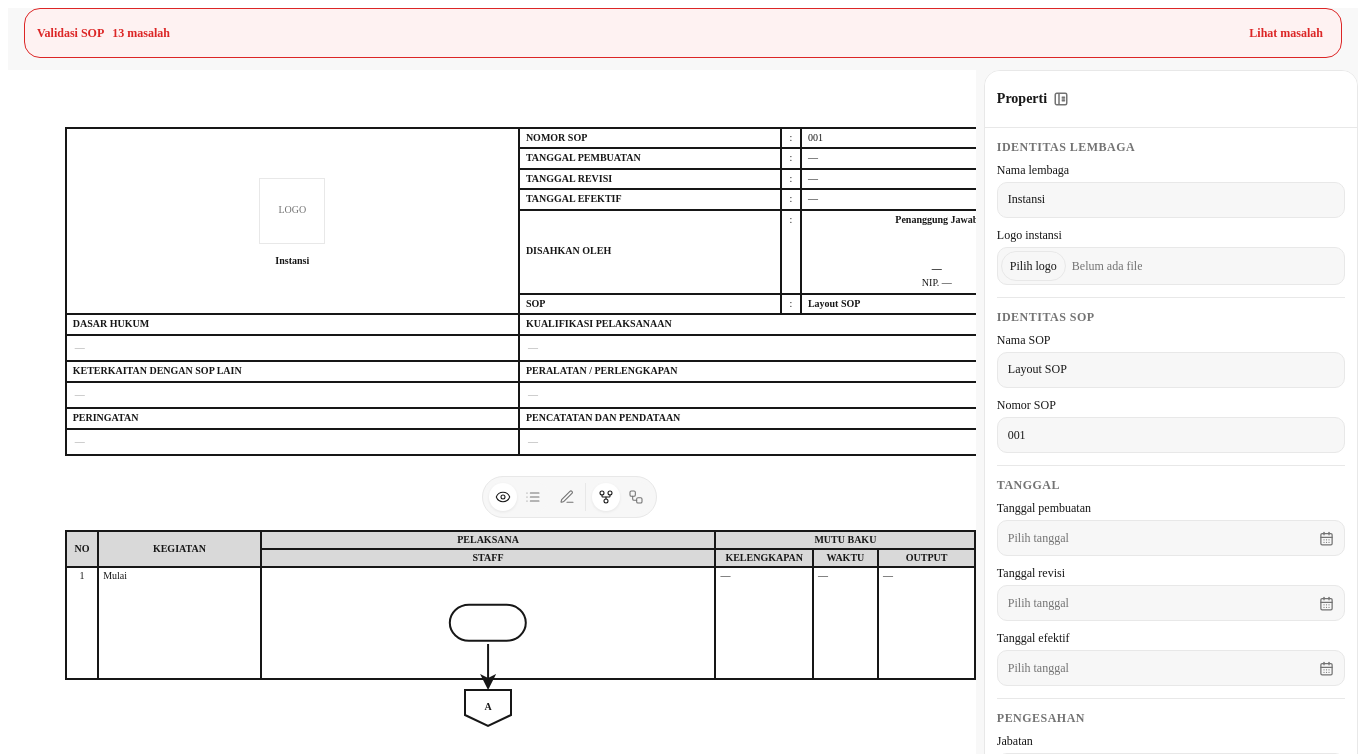
SopEditor default composition › switches to the inline step editor without changing the inspector
This screenshot has width=1366, height=754.
Click the button named "Edit langkah" at (533, 497), box [519,483,547,511]
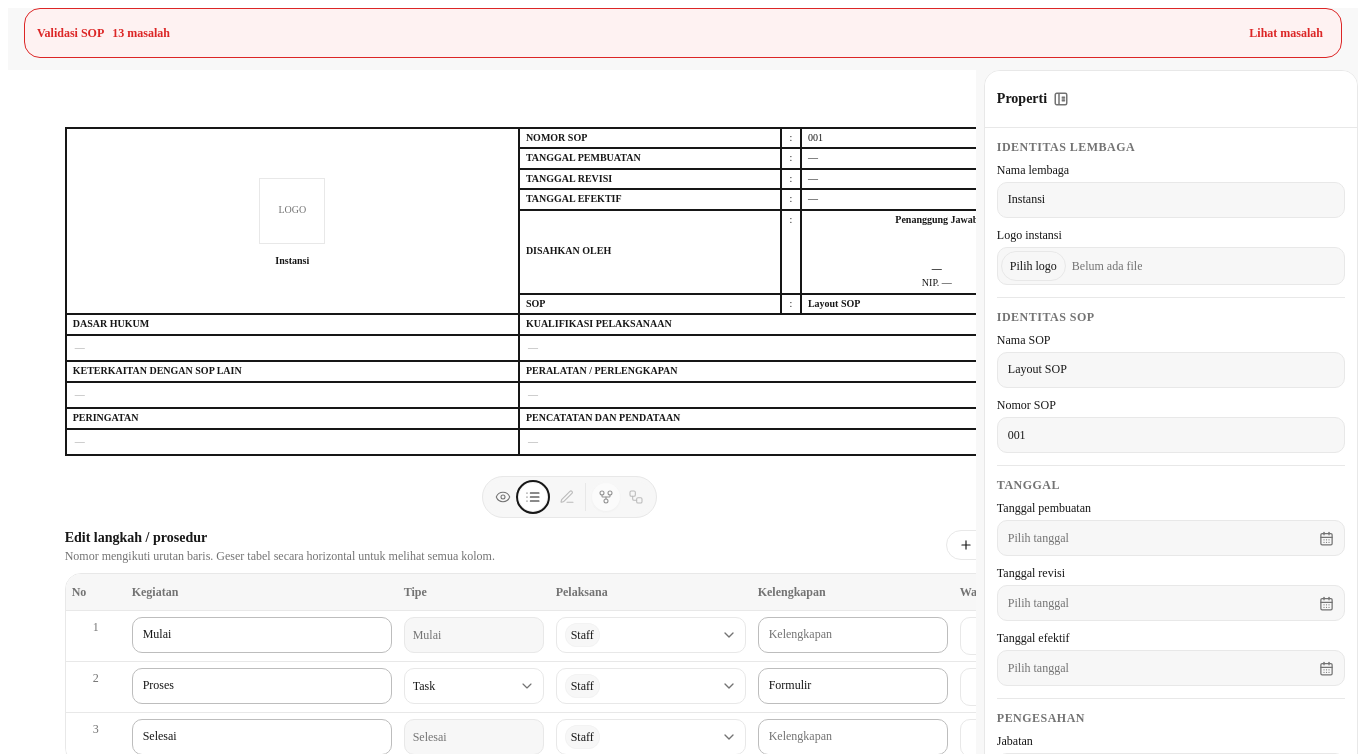
expect the button named "Preview" is shown: met, box [489,483,517,511]
expect the 2nd text box showing "Proses" is shown: met, box [132,668,392,704]
